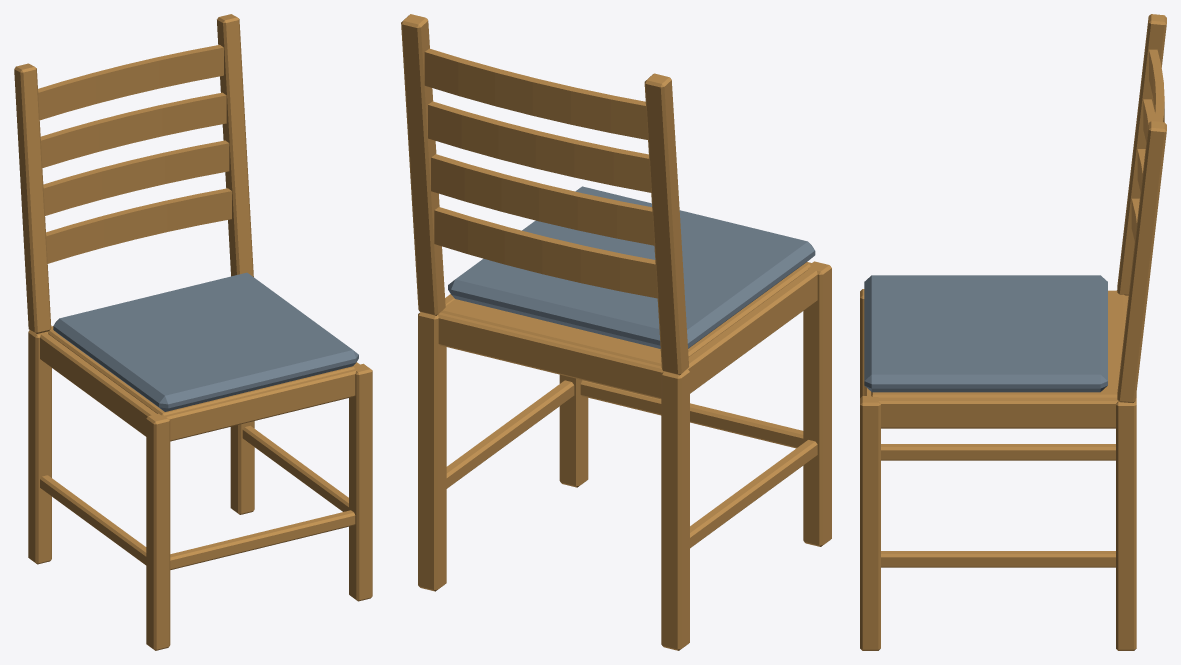
File: CadeiraEncostoRipas.fbx
The picture shows the model from 3 angles, left to right: view 1: azimuth 30°, elevation 25°; view 2: azimuth 150°, elevation 25°; view 3: azimuth 270°, elevation 25°; orthographic projection. The views are drawn at different scales.
Parts seen in each view (by area): view 1: CadeiraEncostoRipas; view 2: CadeiraEncostoRipas; view 3: CadeiraEncostoRipas.
Part boxes in pixels (bbox=[...]): CadeiraEncostoRipas: bbox=[14, 14, 372, 650]; CadeiraEncostoRipas: bbox=[401, 14, 831, 650]; CadeiraEncostoRipas: bbox=[860, 14, 1166, 650].
Size of the model in its own units: 0.45 by 0.9484 by 0.5038.
